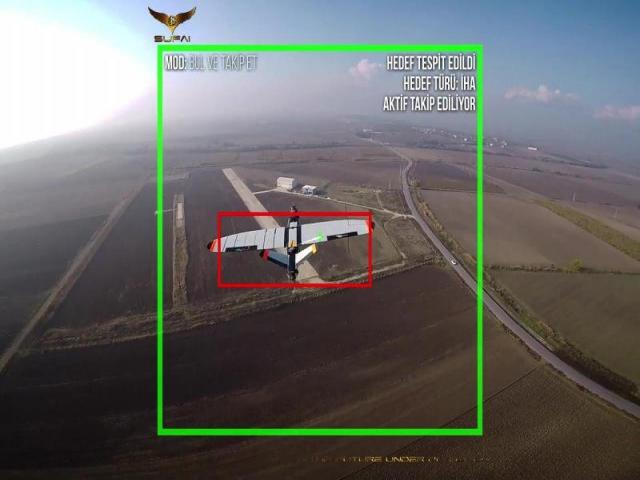hedef: (221, 217, 366, 282)
